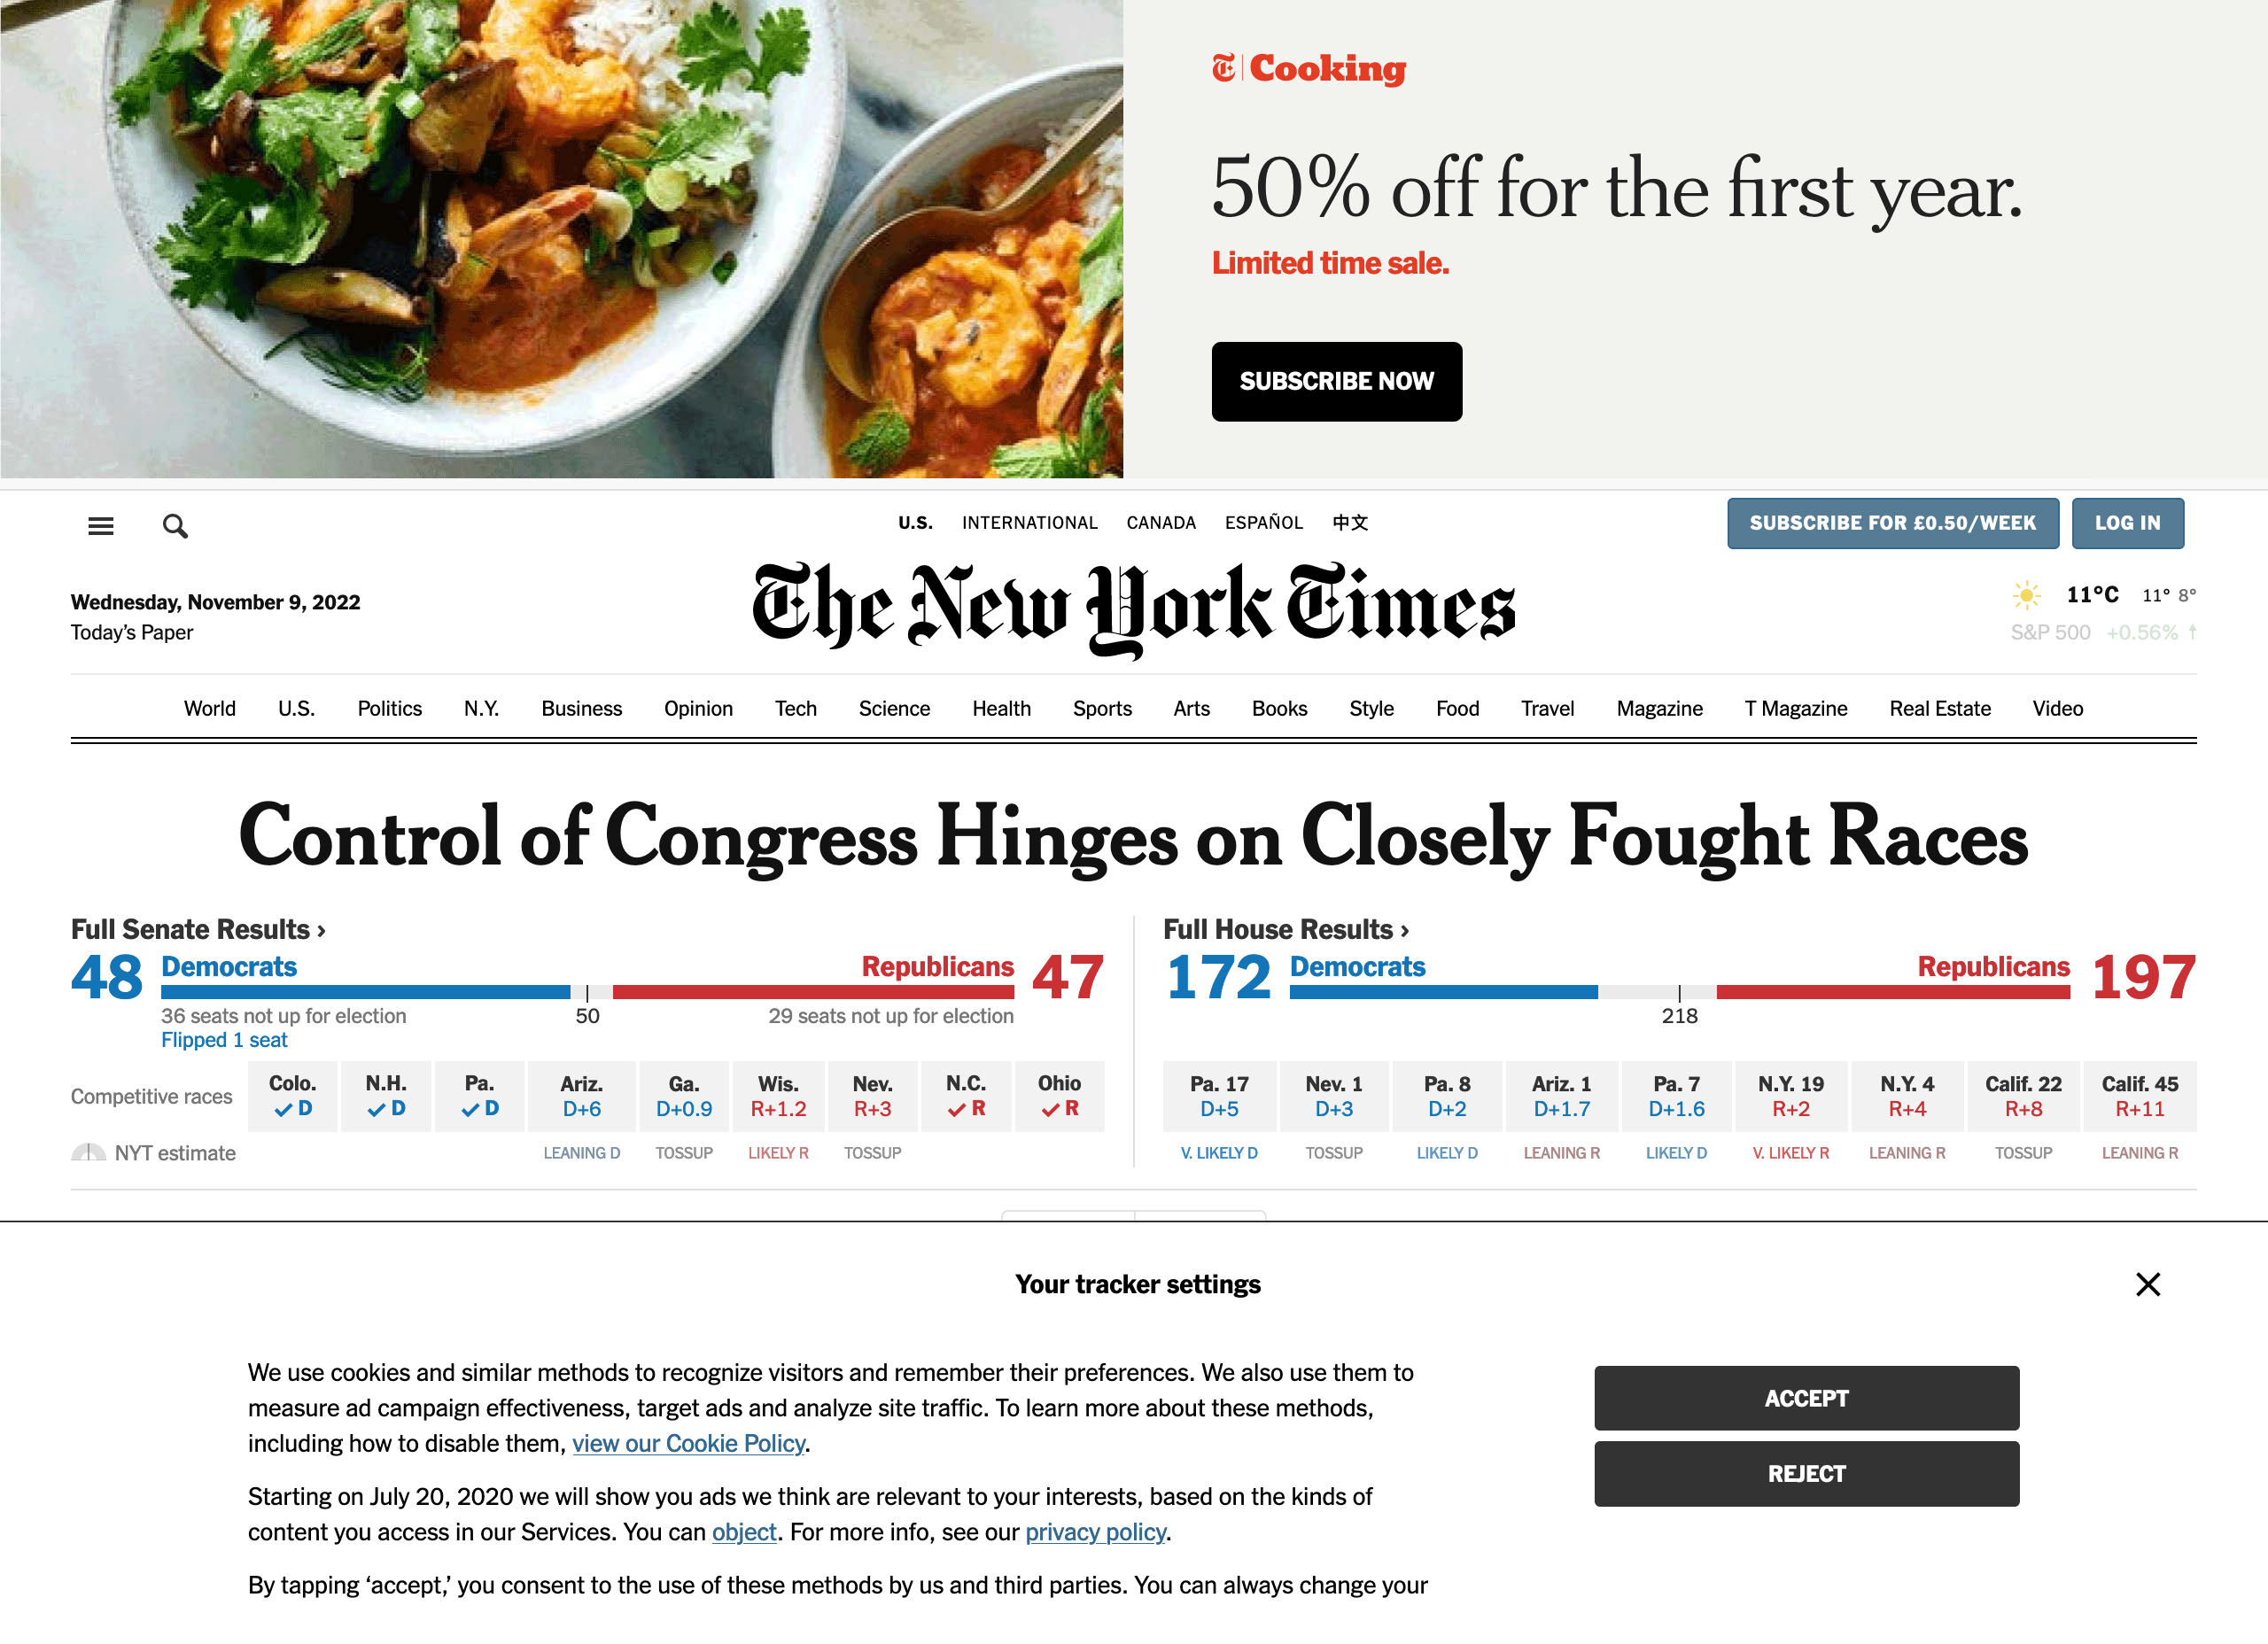Login: (2067, 493, 2194, 558)
